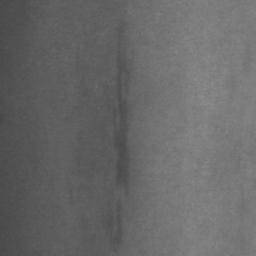Inclusion: (115, 86, 129, 183)
